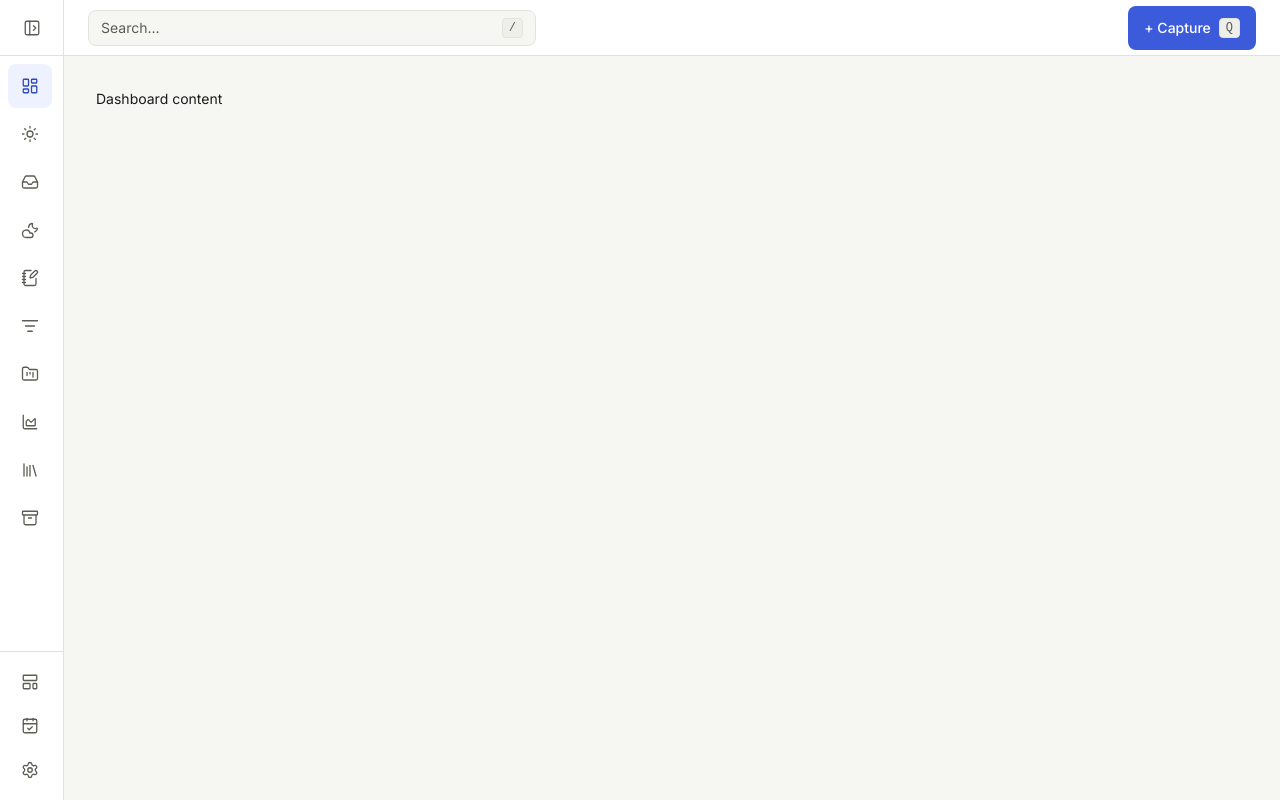
it: AppShell › sidebar toggle › narrow screen: Escape closes the open sidebar and nothing is remembered
This screenshot has width=1280, height=800.
Step 1. Click the button named "Expand sidebar" → (32, 28), box [14, 10, 50, 46]
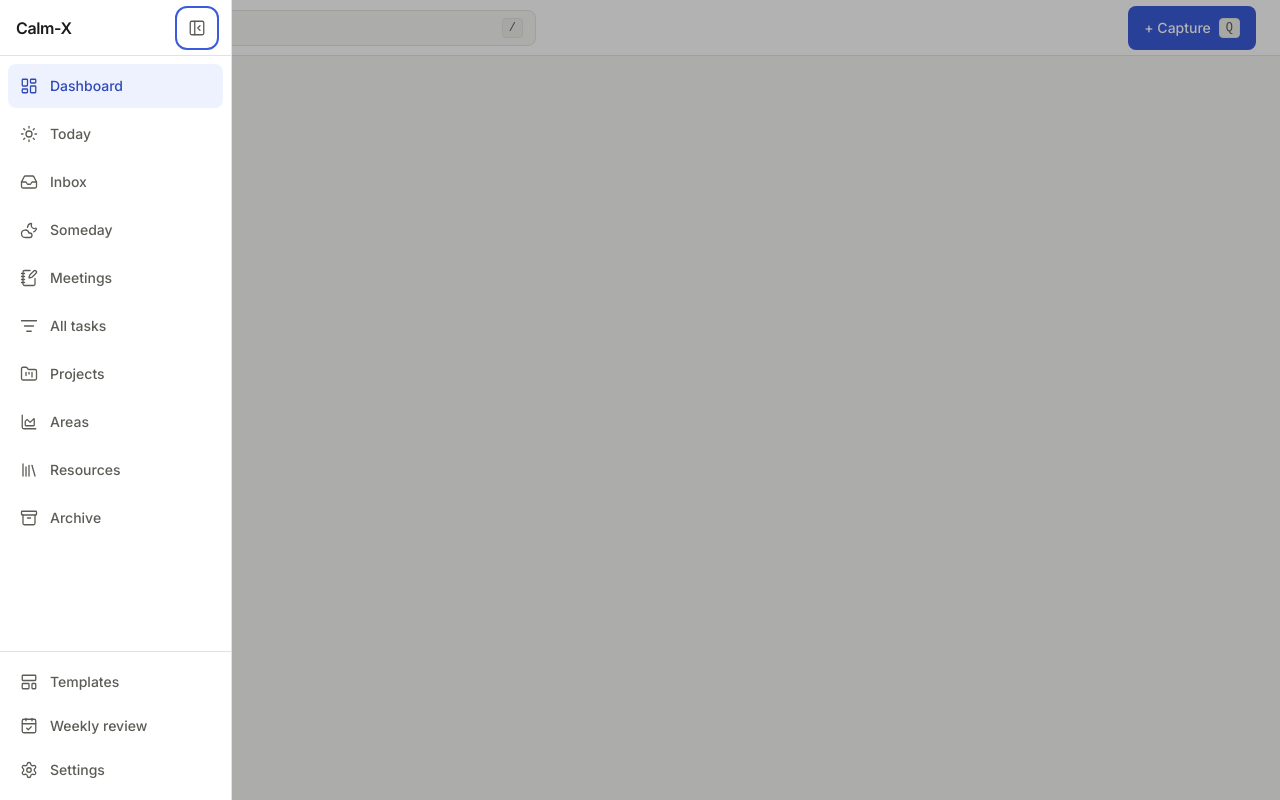
Step 2. Press Escape
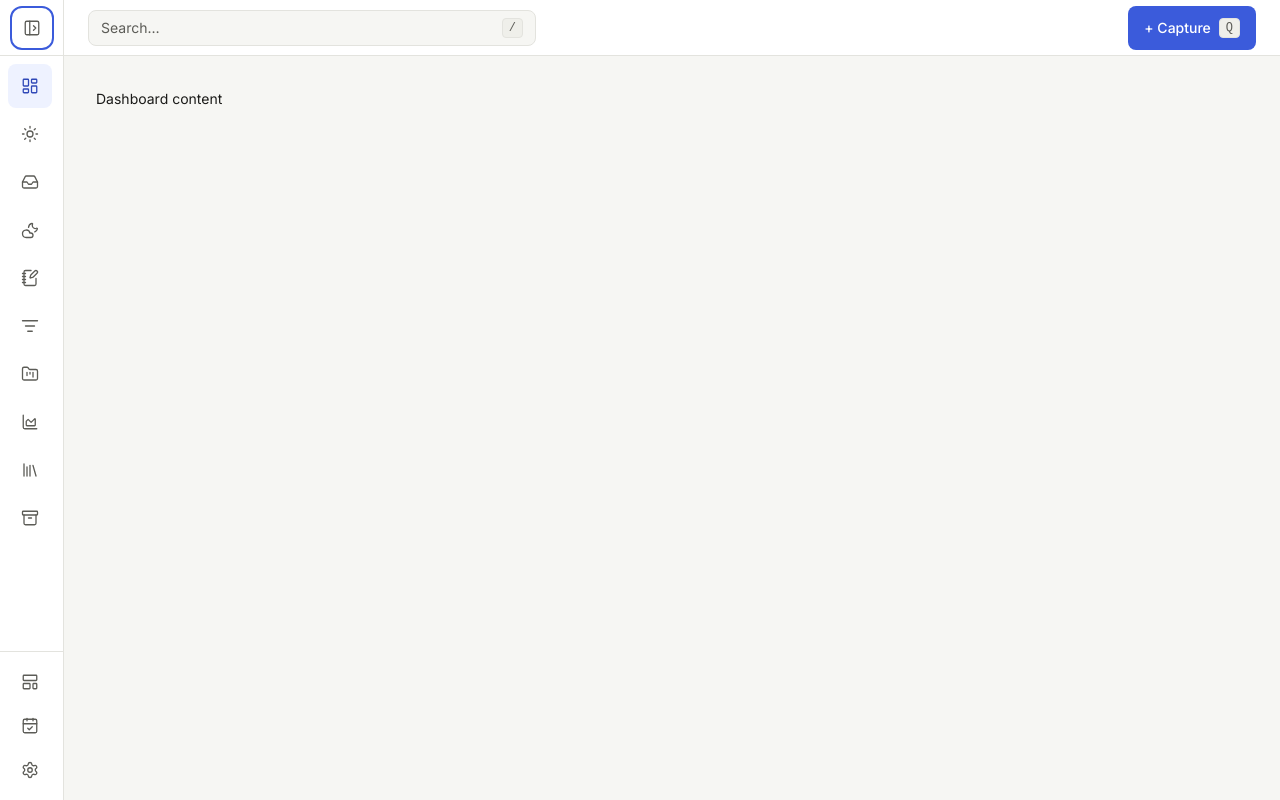
Now the button named "Expand sidebar" is shown, box [14, 10, 50, 46]
